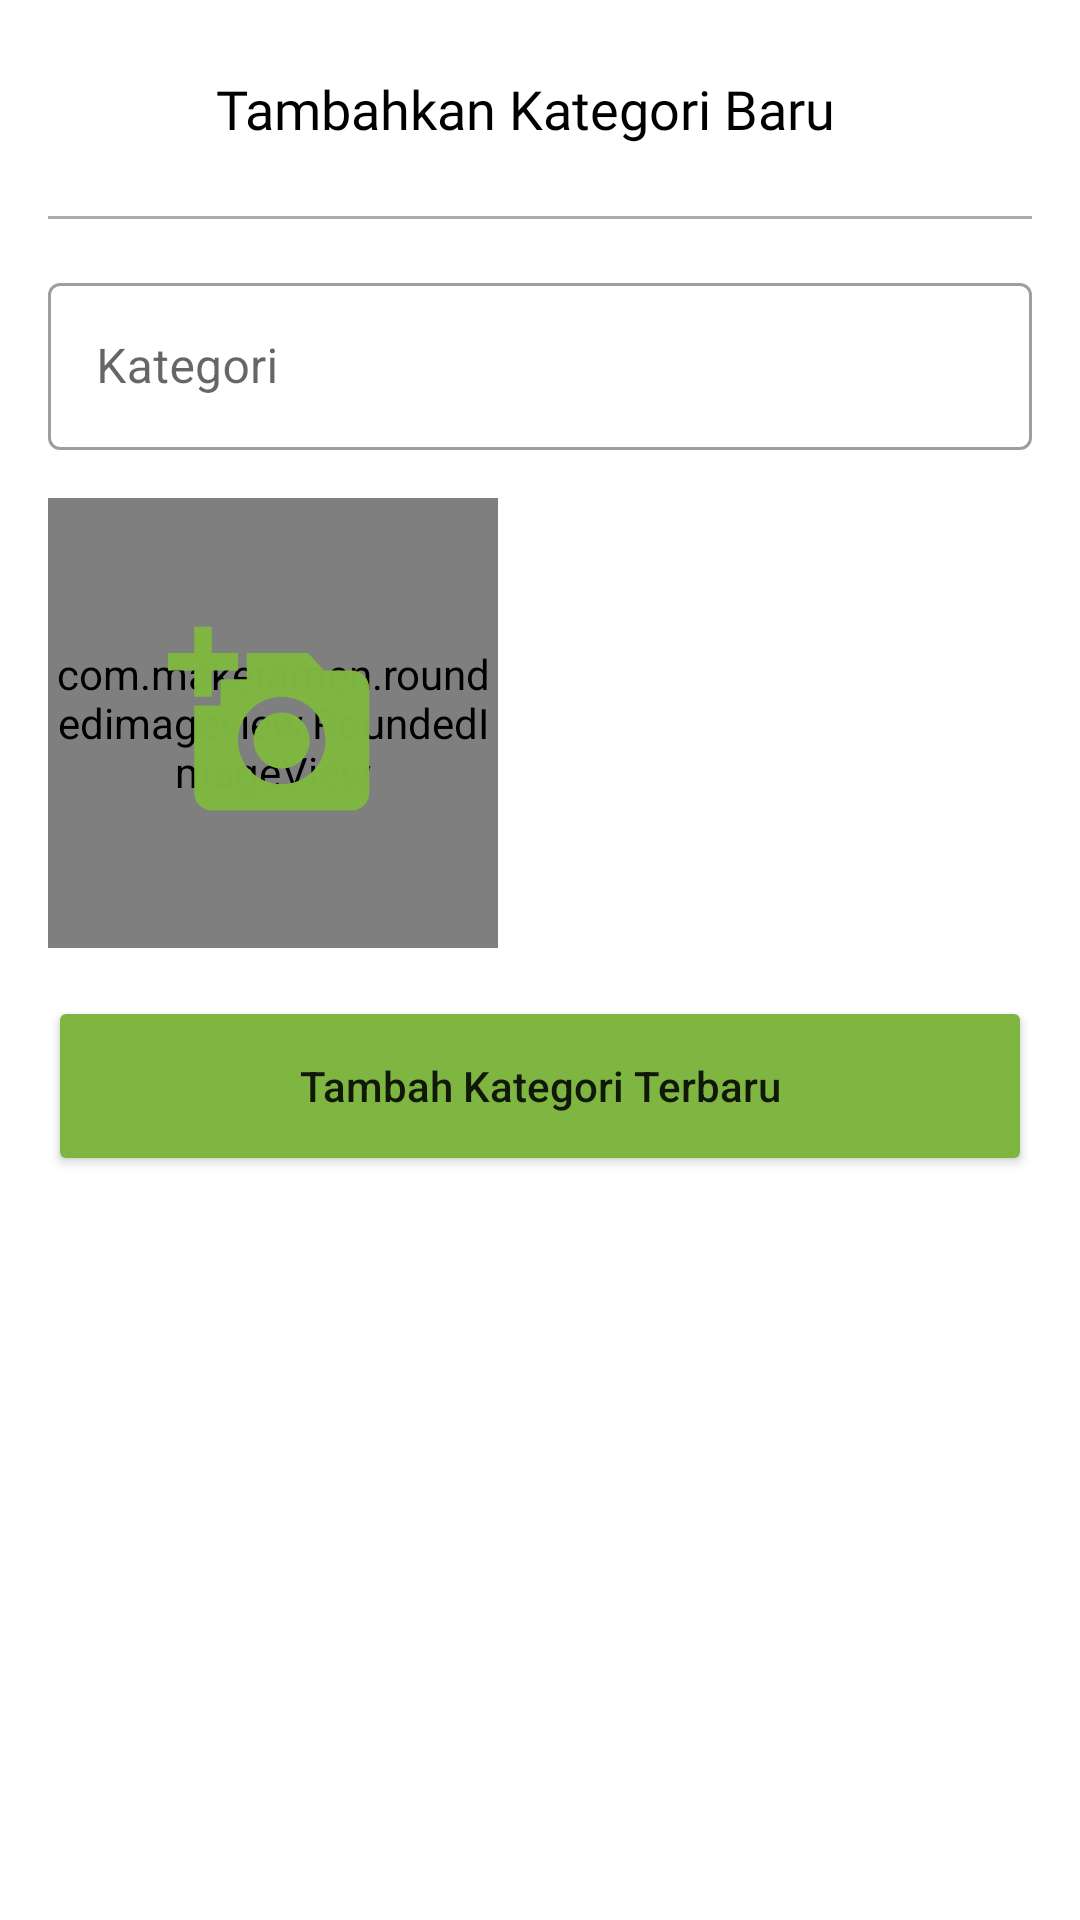

Where to tap for icons on this 1080x1920 app screen, as (x=x, y=y):
add photo: (x=273, y=719)
